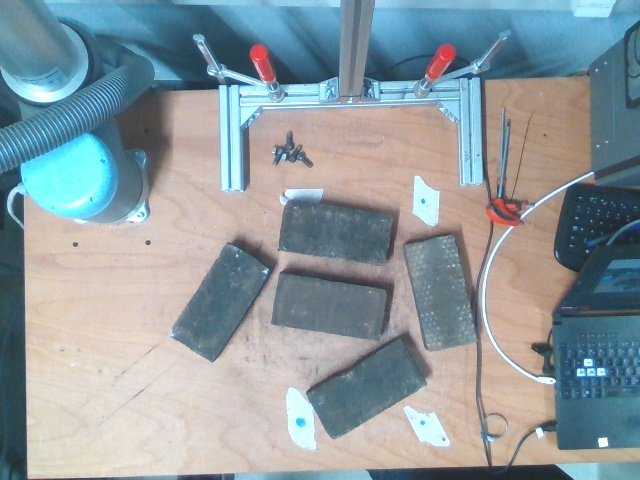brick: (171, 244, 270, 362), (313, 344, 425, 435), (407, 238, 474, 348), (277, 202, 394, 264), (277, 277, 384, 336)
